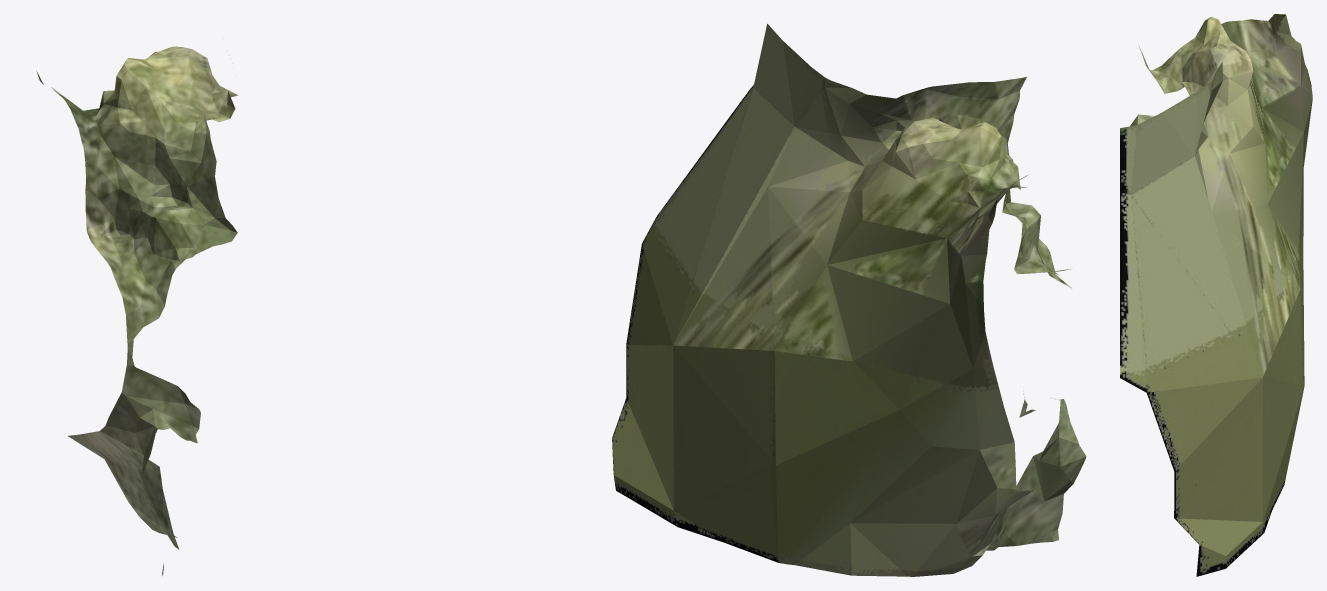
3 views of the same model, side by side, from view 1: azimuth 30°, elevation 25°; view 2: azimuth 150°, elevation 25°; view 3: azimuth 270°, elevation 25° (orthographic). The views are drawn at different scales.
Bounding box in the file's own units: 5.9 × 5.9 × 2.57.
Materials: 4 (4 with a texture image).
